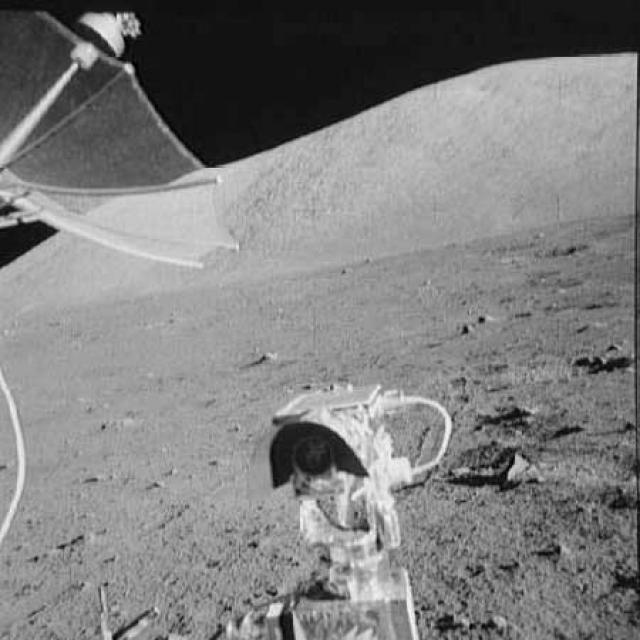artifact: (0, 5, 237, 278), (256, 374, 456, 639), (0, 368, 37, 550)
rock: (498, 448, 542, 481), (251, 343, 279, 362), (475, 309, 499, 326), (462, 319, 475, 336)
